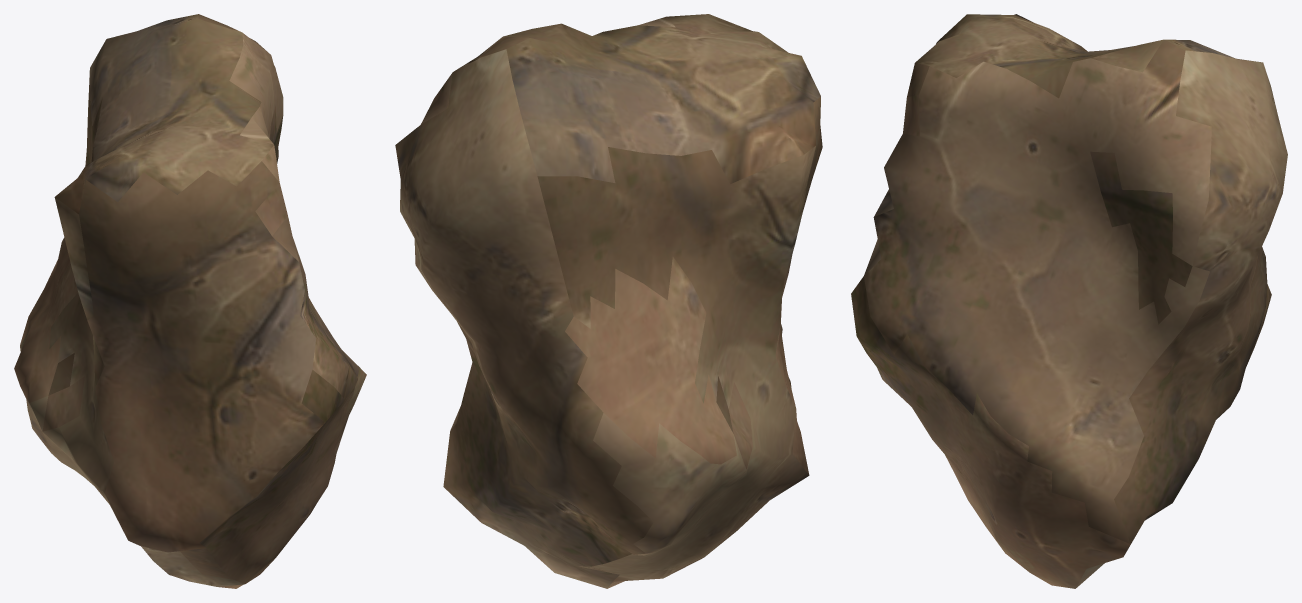
Rendered from Rock-4-tex.fbx.
3 renders of one model, left to right at view 1: azimuth 30°, elevation 25°; view 2: azimuth 150°, elevation 25°; view 3: azimuth 270°, elevation 25°, orthographic. The views are drawn at different scales.
Visible parts, largest first — view 1: rock.004; view 2: rock.004; view 3: rock.004.
Boxes of the visible parts, x1,y1,x2,y2 form: rock.004: (14,14,366,588); rock.004: (395,14,822,588); rock.004: (851,14,1287,588).
Size of the model in its own units: 79.9 by 137 by 98.04.
